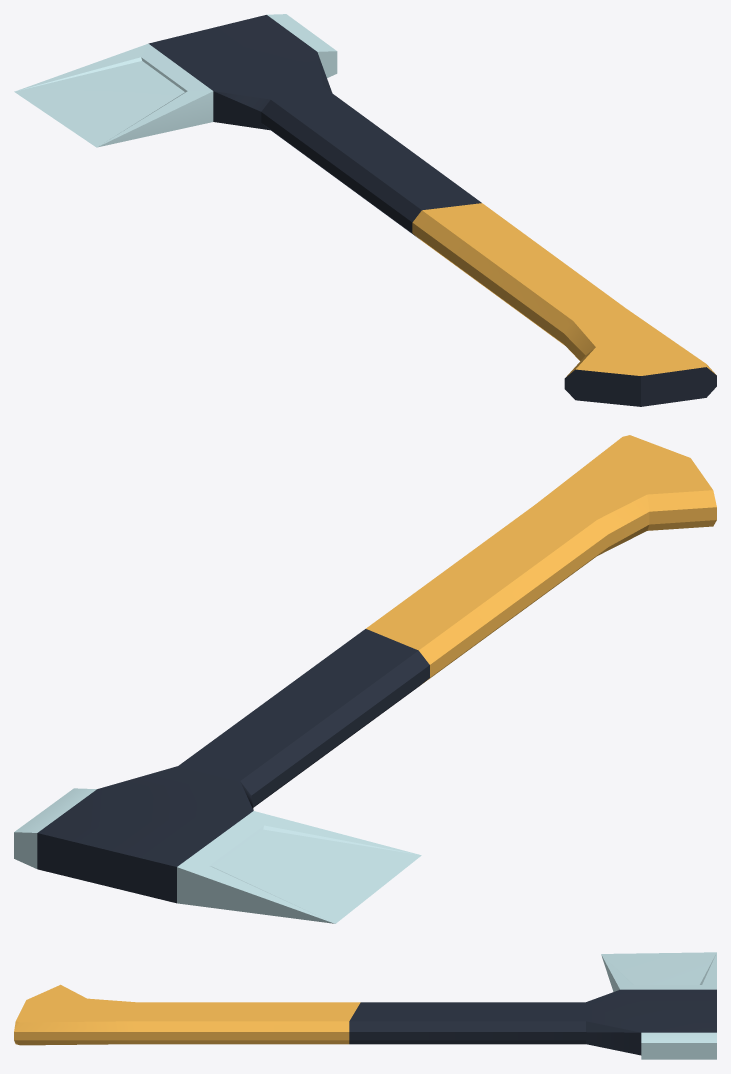
The model's file is axe.glb.
The picture shows the model from 3 angles, top to bottom: view 1: azimuth 30°, elevation 25°; view 2: azimuth 150°, elevation 25°; view 3: azimuth 270°, elevation 25°; orthographic projection. The views are drawn at different scales.
Visible parts, largest first — view 1: Box001_Material #32_0; view 2: Box001_Material #32_0; view 3: Box001_Material #32_0.
Part boxes in pixels (<box>): Box001_Material #32_0: <box>14,14,716,406</box>; Box001_Material #32_0: <box>14,435,716,923</box>; Box001_Material #32_0: <box>14,952,716,1059</box>.
Size of the model in its own units: 13.37 by 1.44 by 40.12.
Materials: 1 (1 with a texture image).
